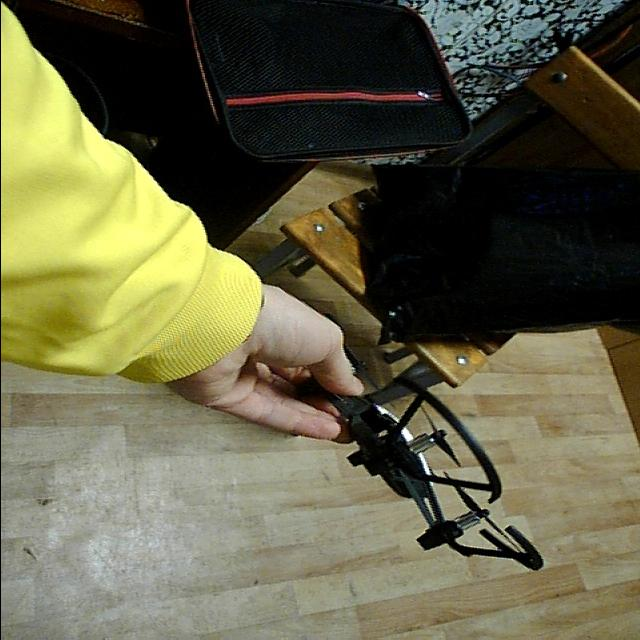drone: (317, 337, 547, 581)
